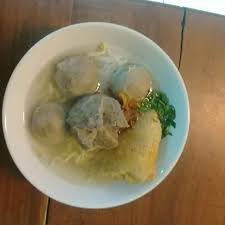bakso: (13, 27, 186, 204)
